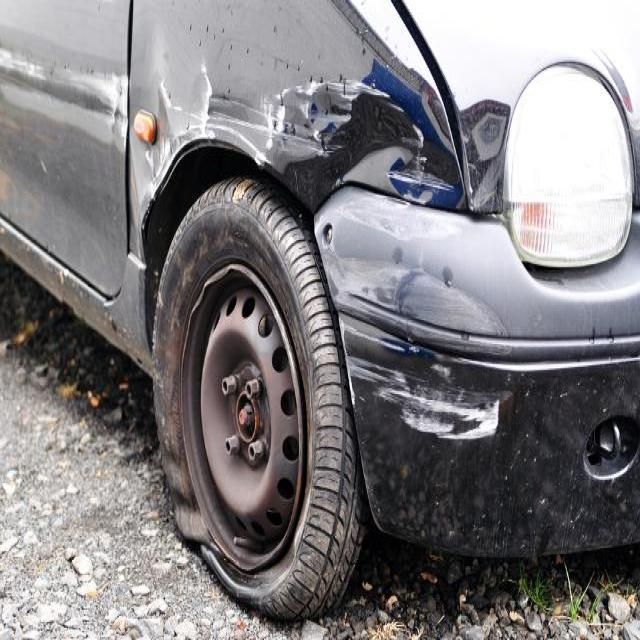Dent: (1, 205, 112, 311), (372, 368, 507, 439), (268, 72, 372, 157), (340, 286, 481, 342), (456, 343, 636, 377), (180, 57, 212, 136), (111, 71, 130, 137), (269, 53, 305, 75), (124, 249, 147, 281), (377, 194, 411, 208), (416, 189, 432, 202), (442, 264, 452, 284), (323, 223, 332, 244), (391, 245, 402, 262), (588, 324, 596, 342), (356, 26, 365, 40), (109, 317, 116, 332), (57, 267, 64, 282), (606, 326, 612, 341), (341, 77, 346, 94), (278, 90, 282, 106), (460, 331, 469, 338), (297, 59, 302, 69), (361, 47, 366, 56), (273, 23, 277, 33), (309, 72, 313, 82), (338, 71, 342, 80), (226, 86, 230, 95), (185, 121, 189, 128), (318, 76, 322, 82), (323, 107, 327, 113)
